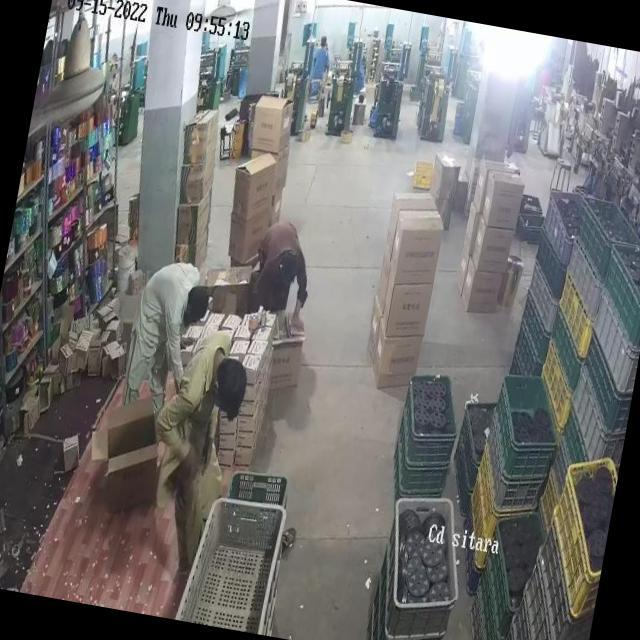person: (144, 322, 253, 555), (124, 246, 205, 406), (305, 24, 339, 100)
